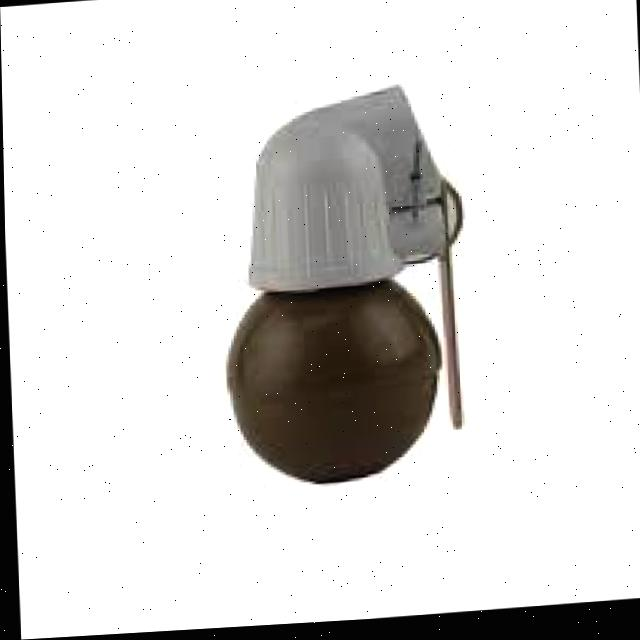grenade: (210, 71, 472, 495)
